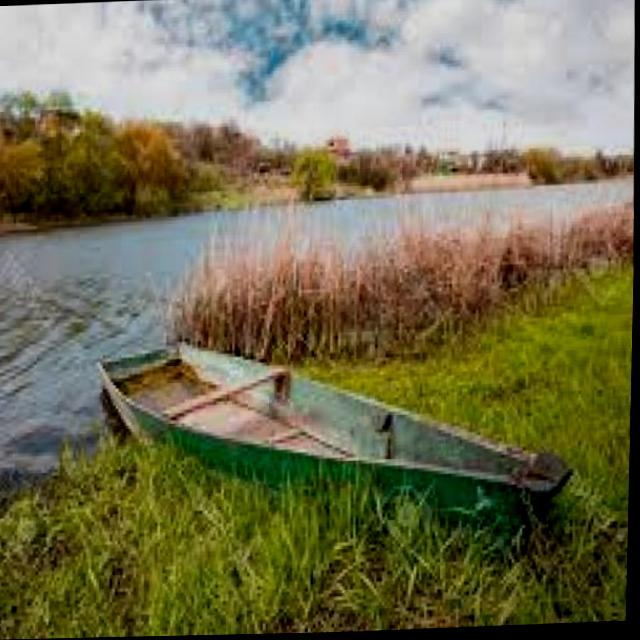ship2: (99, 342, 575, 526)
